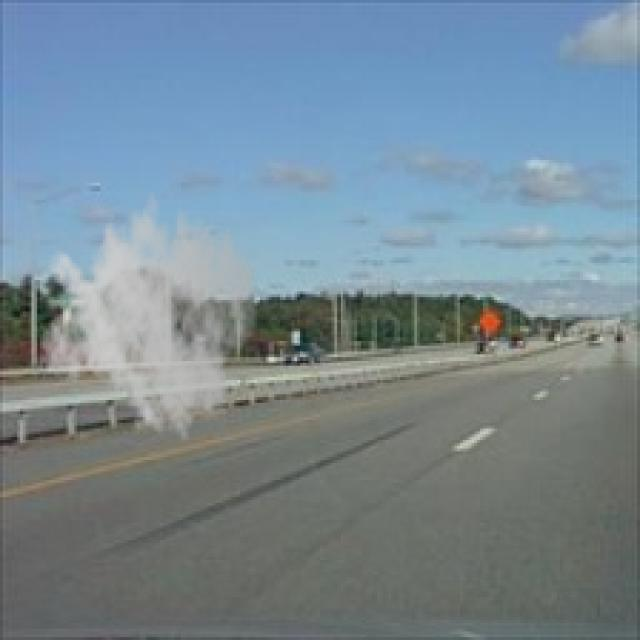smoke: (40, 177, 260, 443)
